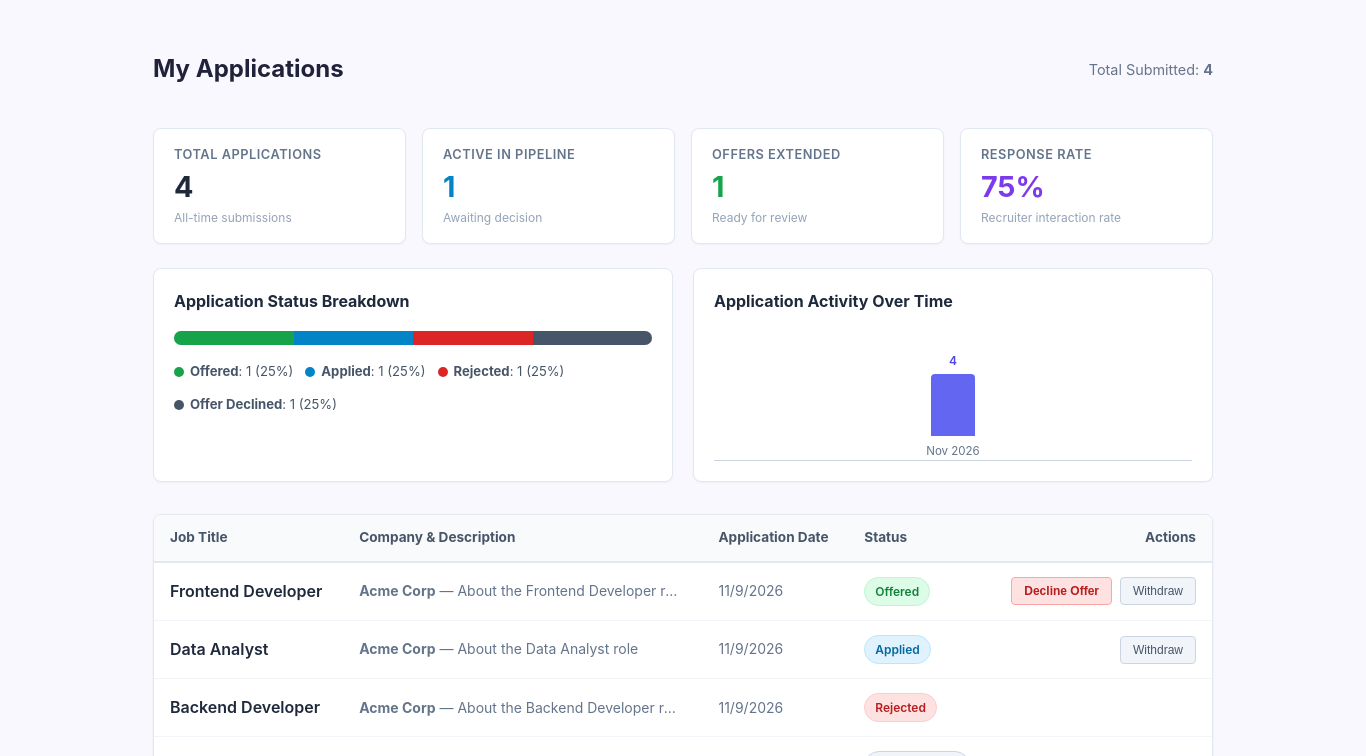
Test: ApplicationHistory › withdraw (SCRUM-309) › asks for confirmation, withdraws, and reloads the list
Check: the text "Data Analyst" is shown, box [154, 620, 343, 679]
Click the button "Withdraw" in the row of "About the Data Analyst role".
click(1158, 650)  # box [1120, 636, 1196, 664]
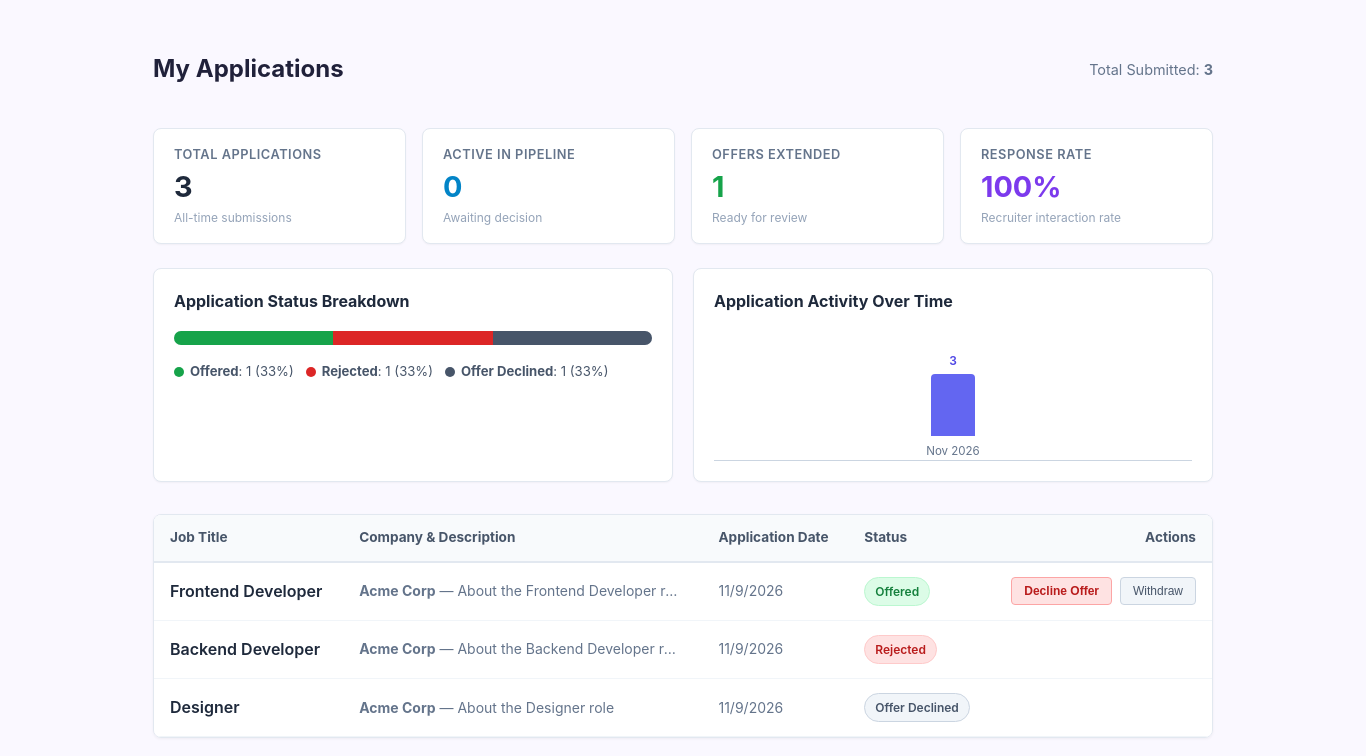
Check: the text "Data Analyst" is gone
